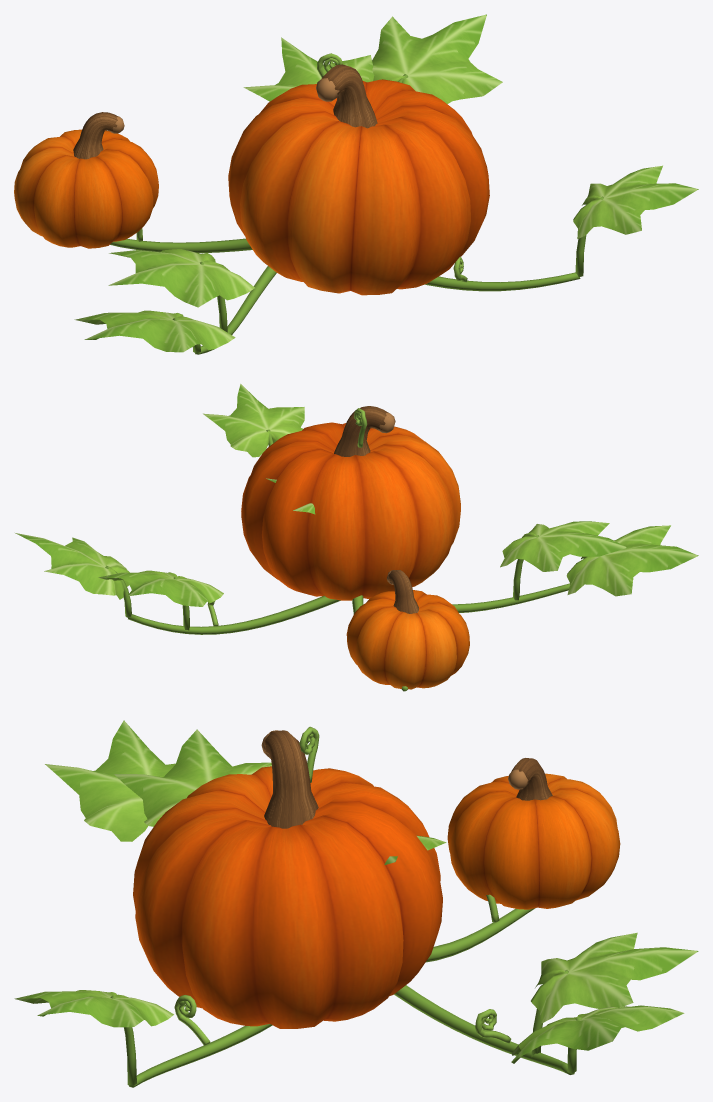
File: crop_pumpkin_3.glb
3 renders of one model, top to bottom at view 1: azimuth 30°, elevation 25°; view 2: azimuth 150°, elevation 25°; view 3: azimuth 270°, elevation 25°, orthographic. The views are drawn at different scales.
Visible parts, largest first — view 1: model; view 2: model; view 3: model.
Boxes of the visible parts, x1,y1,x2,y2 form: model: (14,14,698,354); model: (15,384,698,691); model: (14,720,698,1087).
Bounding box in the file's own units: 1.15 × 0.4114 × 0.9348.
Materials: 7 (4 with a texture image).
